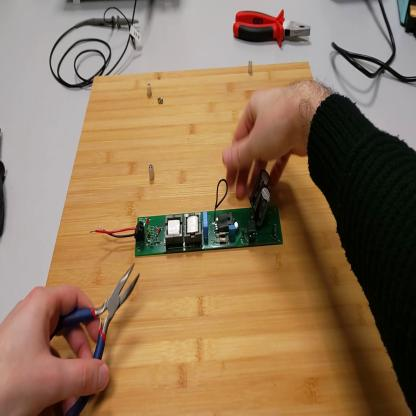hand: (2, 284, 113, 415), (223, 85, 309, 199)
high voltage board: (90, 170, 285, 258)
oscilloscope probe tip: (83, 12, 140, 35)
pliers: (52, 264, 142, 414), (232, 6, 311, 50)
screwdriver-: (2, 128, 8, 240)
welder base: (397, 2, 416, 39)
working area: (51, 61, 415, 416)
